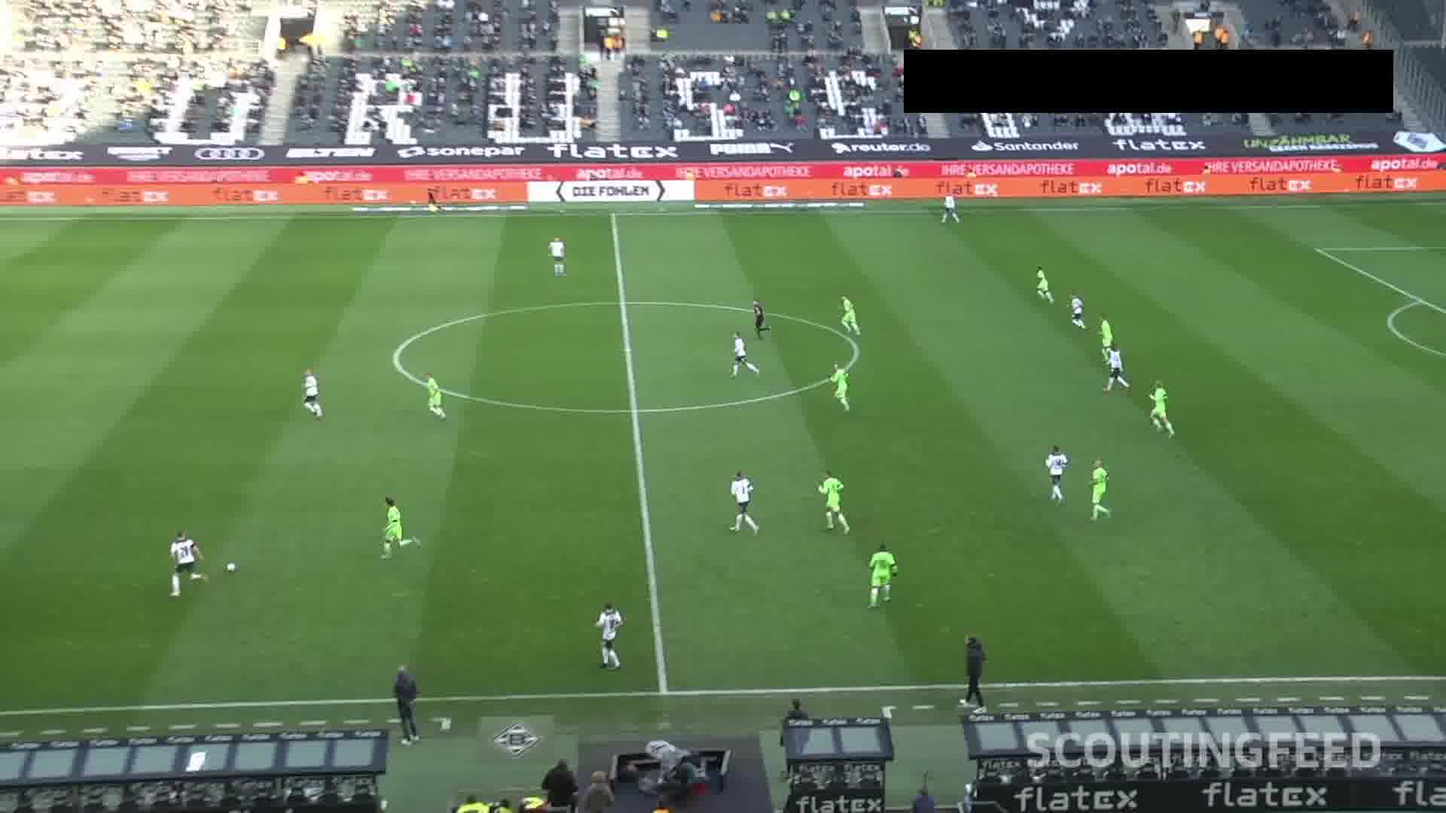ball: (218, 557, 242, 580)
coach_staff: (385, 662, 423, 743), (956, 622, 988, 708)
player: (380, 494, 423, 563), (163, 532, 203, 600), (724, 469, 761, 537), (818, 468, 854, 534), (290, 364, 333, 417), (592, 600, 626, 667), (865, 542, 897, 608), (1084, 463, 1118, 521), (1033, 444, 1069, 497), (1147, 376, 1176, 437), (420, 374, 453, 422), (833, 287, 865, 336), (828, 364, 857, 414), (1100, 341, 1127, 394), (1096, 307, 1126, 353), (541, 231, 572, 272), (732, 330, 756, 379), (1028, 262, 1054, 306), (938, 186, 960, 226), (1068, 286, 1085, 327)
referee: (751, 289, 773, 339), (423, 176, 438, 213)
